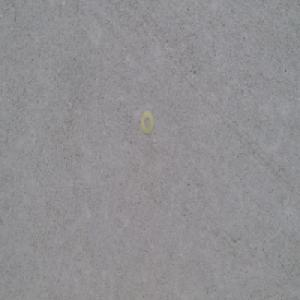Washer: (140, 110, 154, 136)
